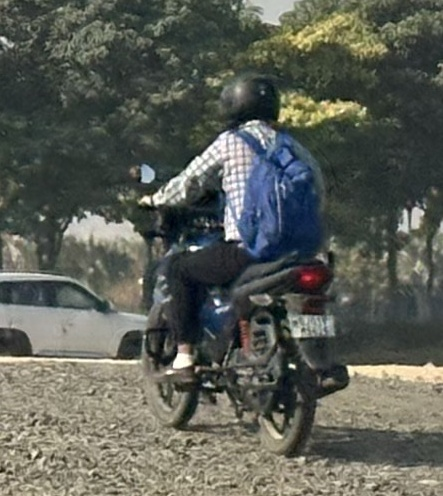BikeWithRider: (121, 65, 360, 461)
Helmet: (209, 66, 290, 133)
